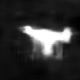plane: (15, 24, 75, 61)
